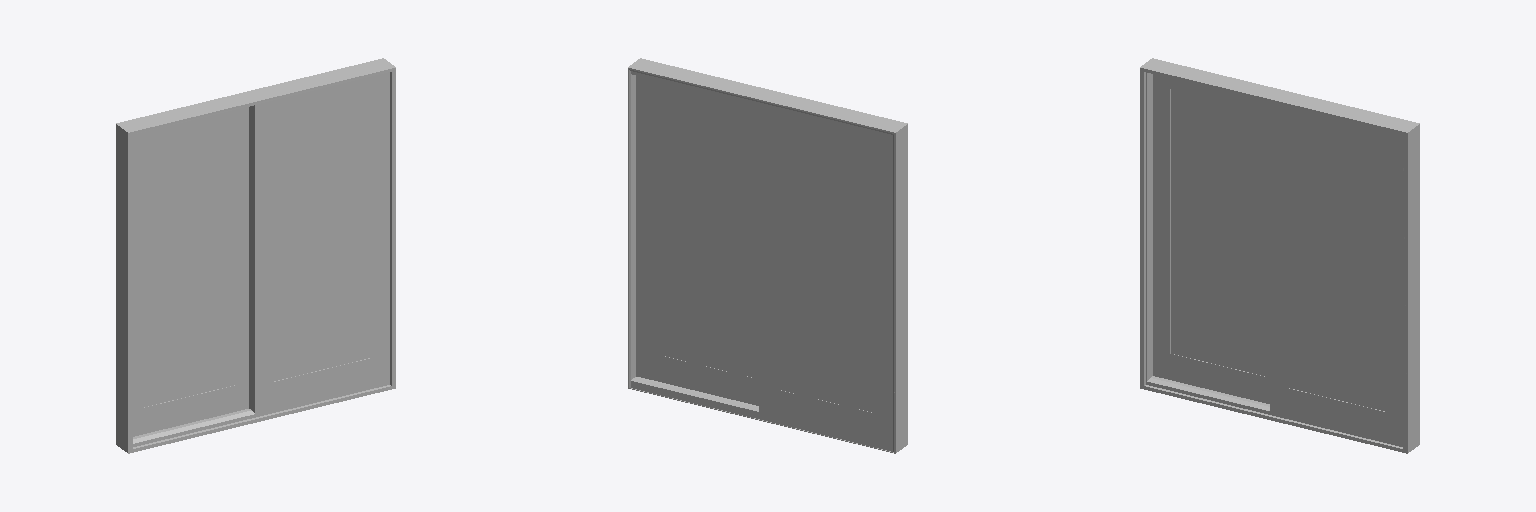
File: janela.obj
3 views of the same model, side by side, from view 1: azimuth 30°, elevation 25°; view 2: azimuth 150°, elevation 25°; view 3: azimuth 330°, elevation 25° (orthographic).
Parts seen in each view (by area): view 1: 3d-model.005_3d-model.009; view 2: 3d-model.005_3d-model.009; view 3: 3d-model.005_3d-model.009.
Part boxes in pixels (bbox=[...]): 3d-model.005_3d-model.009: bbox=[116, 58, 395, 453]; 3d-model.005_3d-model.009: bbox=[628, 58, 907, 453]; 3d-model.005_3d-model.009: bbox=[1140, 58, 1419, 453].
Size of the model in its own units: 10.21 by 11.68 by 0.8402.